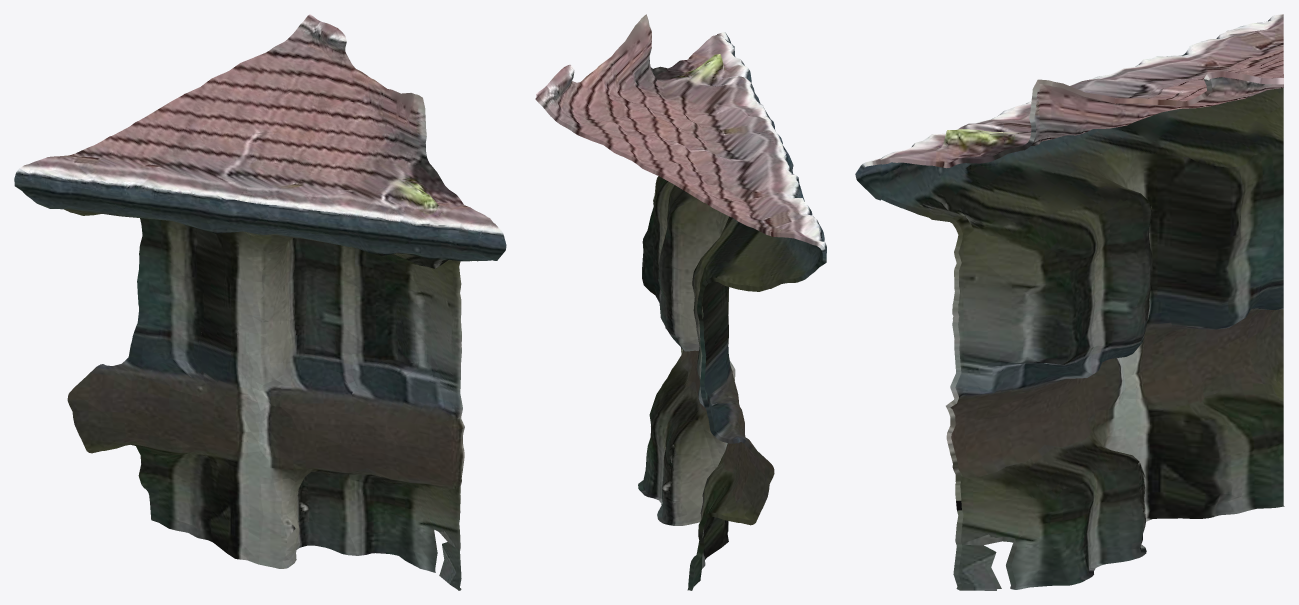
3 views of the same model, side by side, from view 1: azimuth 30°, elevation 25°; view 2: azimuth 150°, elevation 25°; view 3: azimuth 270°, elevation 25° (orthographic). The views are drawn at different scales.
Visible parts, largest first — view 1: node_158; view 2: node_158; view 3: node_158.
Boxes of the visible parts, left/top/right/bottom form: node_158: left=14, top=14, right=506, bottom=590; node_158: left=535, top=14, right=826, bottom=590; node_158: left=855, top=14, right=1284, bottom=590.
Size of the model in its own units: 5.5 by 8.33 by 6.25.
1 material, 1 textured.
